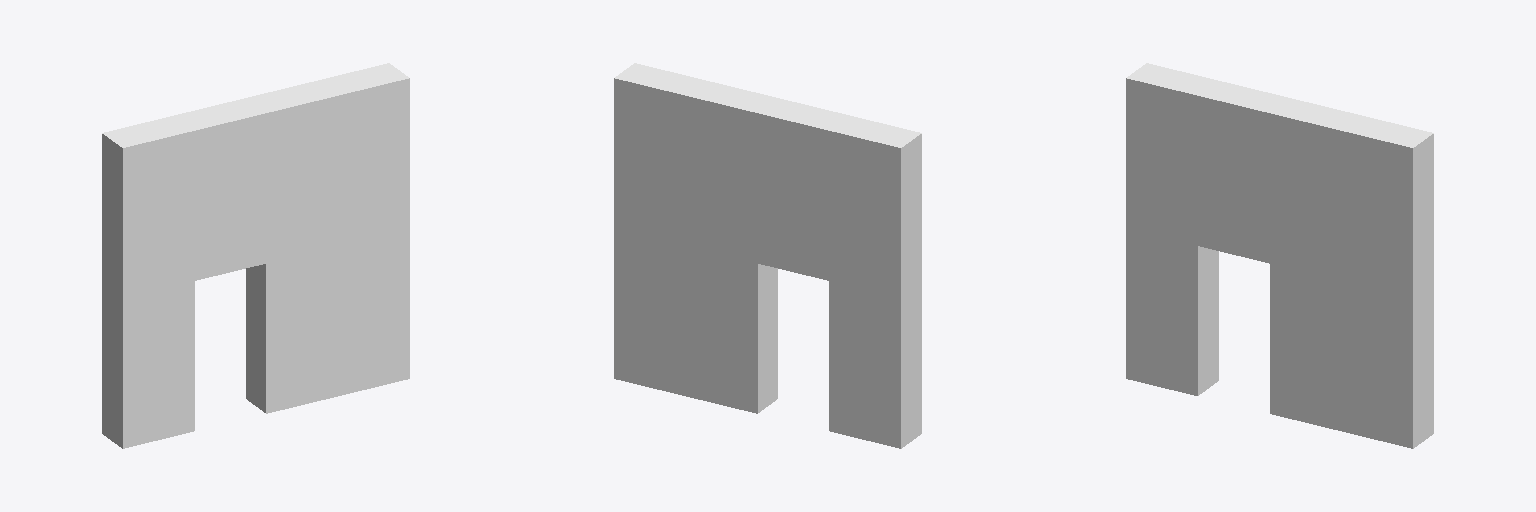
Rendered from env_normaldoor1.obj.
3 renders of one model, left to right at view 1: azimuth 30°, elevation 25°; view 2: azimuth 150°, elevation 25°; view 3: azimuth 330°, elevation 25°, orthographic.
Visible parts, largest first — view 1: env_normaldoor1; view 2: env_normaldoor1; view 3: env_normaldoor1.
Part boxes in pixels (x1,y1,x2,y2): env_normaldoor1: (102, 63, 409, 448); env_normaldoor1: (614, 63, 921, 448); env_normaldoor1: (1126, 63, 1433, 448).
Size of the model in its own units: 4 by 4 by 0.5.